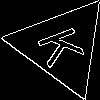K: (36, 21, 95, 69)
